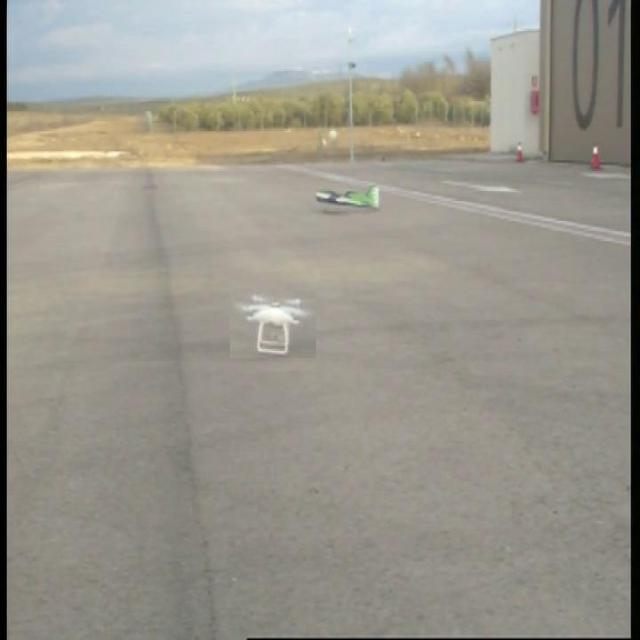drone: (230, 291, 316, 358)
